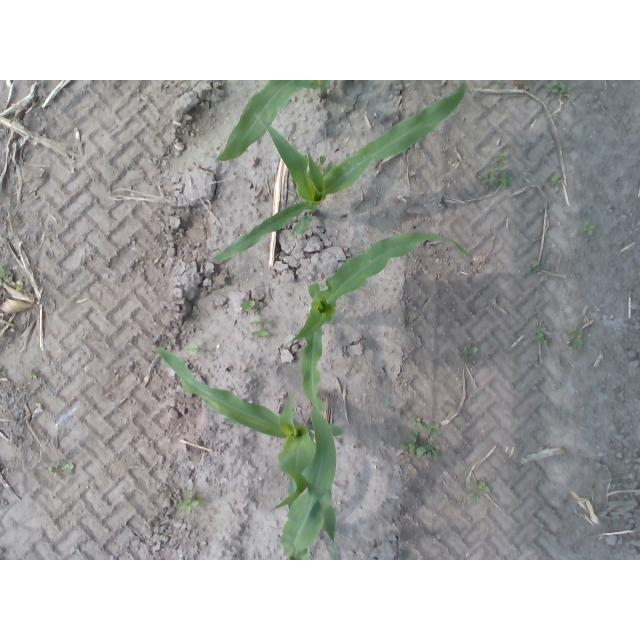Maize: (210, 80, 470, 261), (151, 344, 343, 558), (287, 232, 469, 411), (205, 81, 329, 164), (281, 404, 336, 561)
Weeds: (397, 430, 441, 458), (482, 152, 512, 190), (175, 491, 205, 514), (43, 461, 75, 480), (467, 480, 492, 500), (545, 80, 571, 98), (532, 325, 552, 346), (565, 330, 585, 351), (187, 340, 206, 357), (524, 257, 540, 275), (462, 345, 478, 363), (580, 219, 596, 235), (549, 173, 562, 192), (240, 300, 259, 313), (425, 423, 441, 438), (0, 265, 12, 283), (410, 416, 423, 427), (252, 329, 269, 337), (318, 155, 327, 169), (15, 280, 25, 292), (262, 318, 273, 328), (27, 370, 38, 380), (496, 80, 504, 88)
